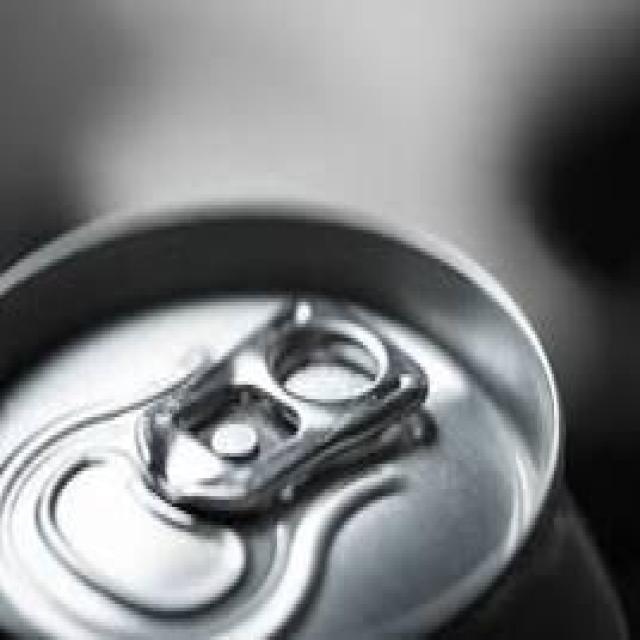can: (0, 198, 630, 639)
pop tab: (129, 291, 430, 523)
